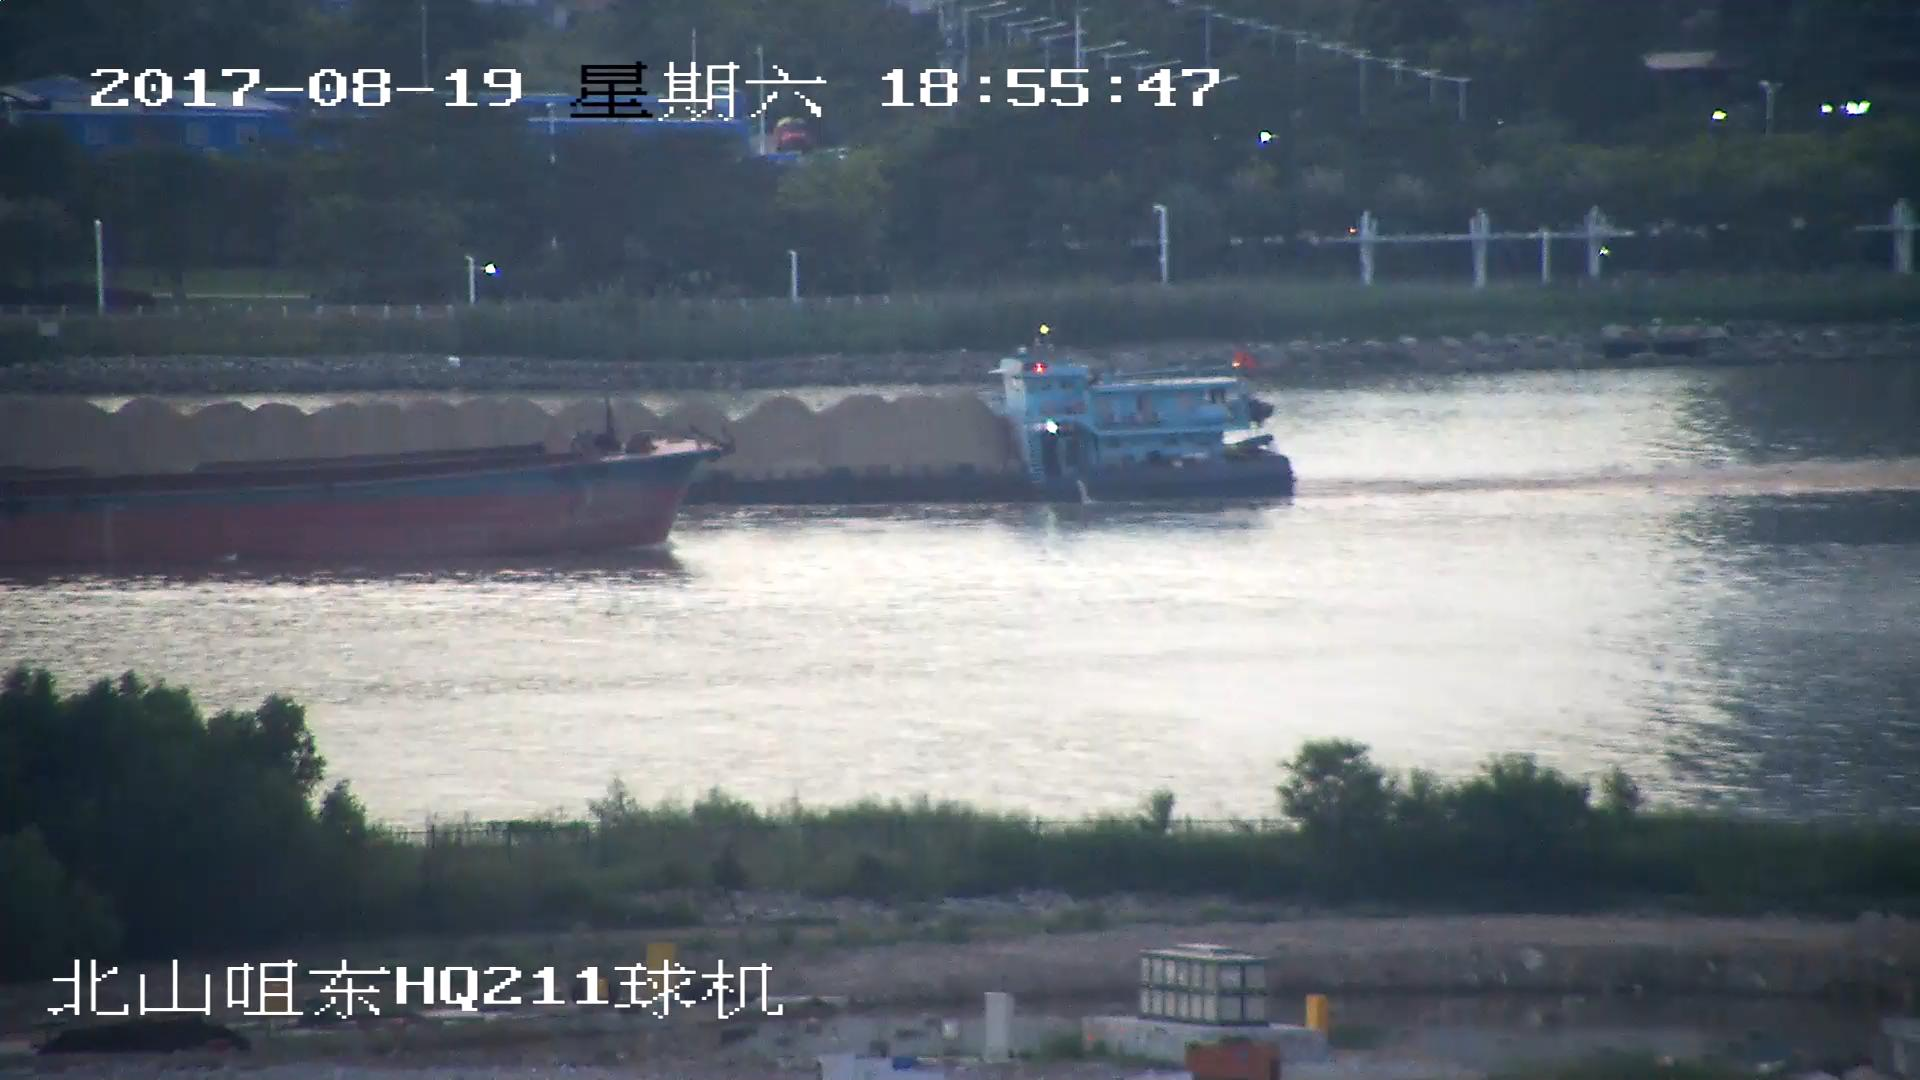bulk cargo carrier: (1, 420, 735, 573)
ore carrier: (1, 350, 1291, 501)
